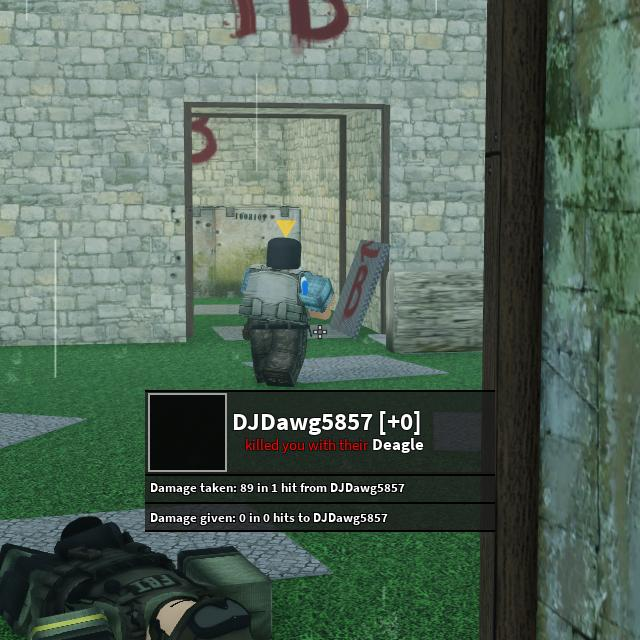Head: (267, 238, 301, 269)
Player: (239, 238, 333, 386)
